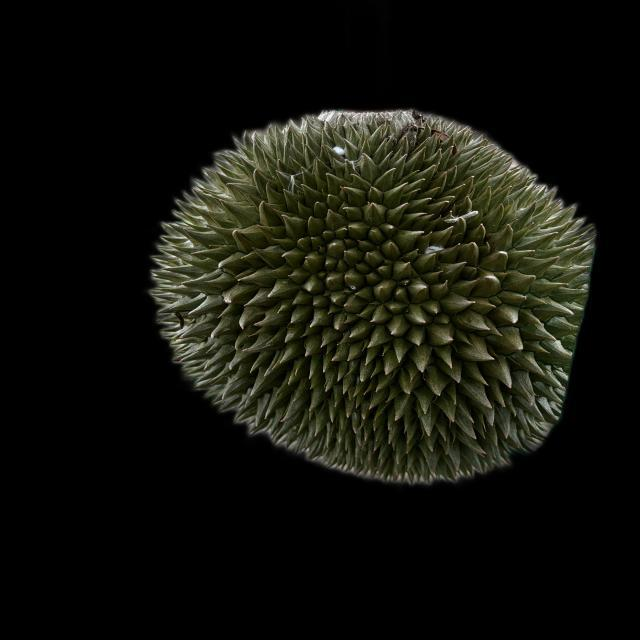immature: (149, 106, 599, 490)
